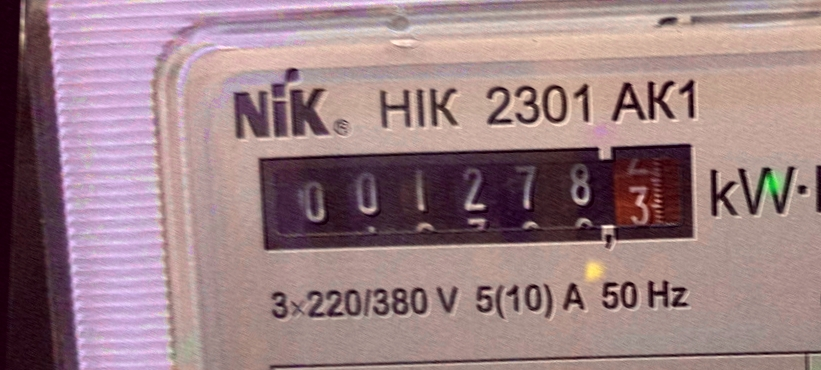0: (301, 175, 329, 224), (352, 168, 380, 216)
1: (410, 164, 430, 211)
2: (459, 165, 488, 212), (624, 155, 649, 175)
3: (624, 182, 653, 227)
7: (512, 162, 536, 209)
8: (567, 160, 593, 205)
screen: (240, 112, 715, 280)
